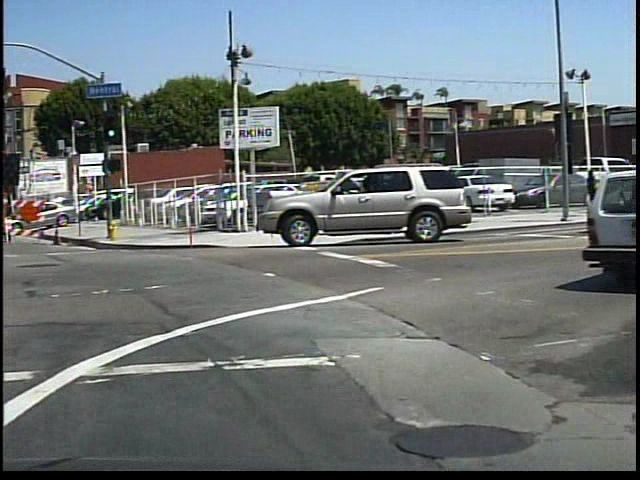person: (581, 163, 603, 216)
